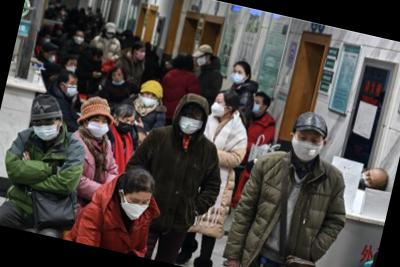mask_weared_incorrect: (110, 72, 127, 87)
with_mask: (289, 131, 326, 165), (117, 191, 153, 224), (29, 116, 62, 144), (177, 110, 207, 139), (84, 115, 112, 141), (114, 114, 137, 138), (358, 170, 378, 193), (209, 97, 228, 120), (139, 91, 159, 109), (63, 79, 80, 100), (230, 69, 247, 86), (250, 98, 264, 117), (195, 53, 208, 68), (65, 61, 78, 74), (73, 32, 85, 46), (136, 48, 147, 62), (91, 56, 103, 67), (46, 51, 57, 63), (43, 35, 53, 45), (105, 31, 114, 40)
